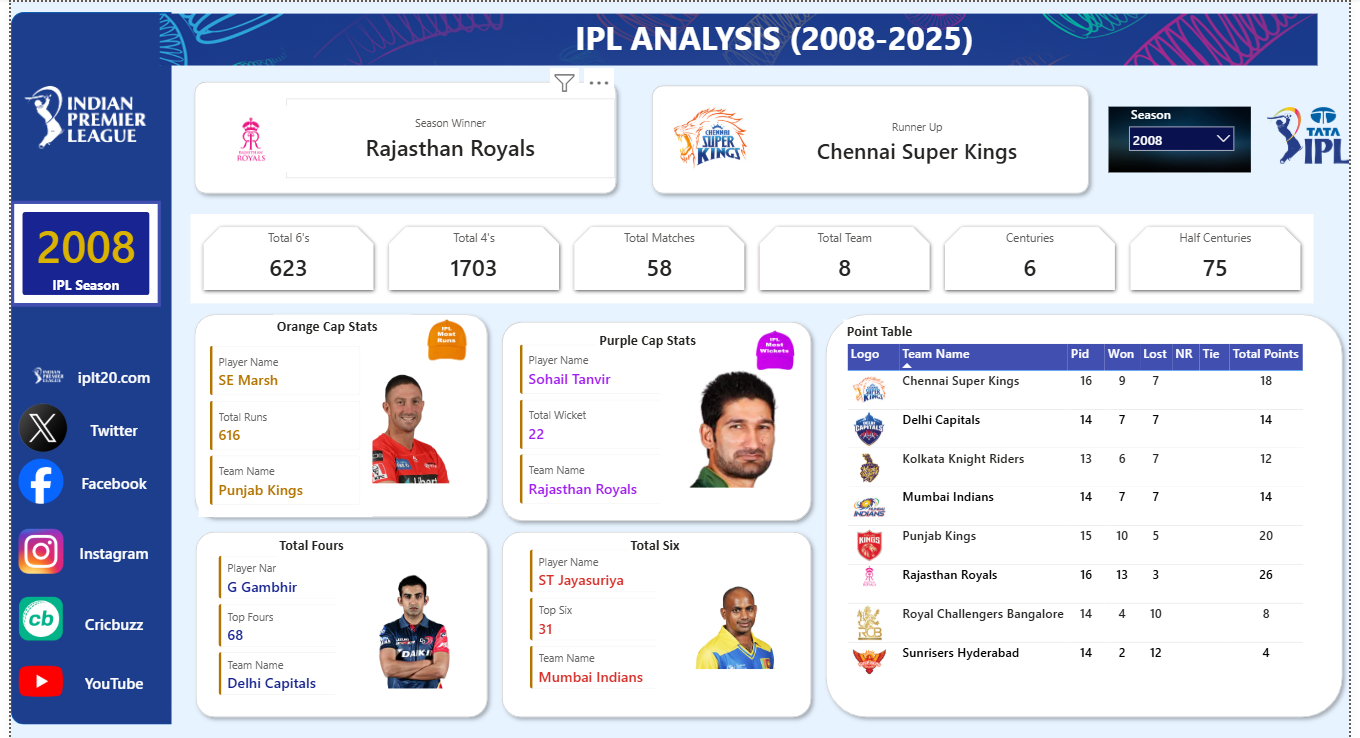

What the dashboard file says about the page in this screenshot:
{"tool":"powerbi","page":{"name":"Page 1","canvas":[2000,1100],"ordinal":0},"visuals":[{"type":"shape","box":[0,15,240.2,1065],"z":0},{"type":"image","box":[221.4,15,1730,82],"z":1000},{"type":"image","box":[1640.3,114,213,183.1],"z":2000},{"type":"shape","box":[1206.9,455.8,794,624],"z":3000},{"type":"shape","box":[723,780.9,483.9,298.9],"z":4000},{"type":"shape","box":[265.3,780.9,457.7,298.9],"z":5000},{"type":"shape","box":[263.4,108.4,652,188.7],"z":6000},{"type":"cardVisual","fields":{"Data":["ipl_matches_data.Season Winner"]},"box":[411,143.9,491.3,119.6],"z":7000},{"type":"shape","box":[263.4,455.8,459.6,325.1],"z":8000},{"type":"cardVisual","fields":{"Data":["ipl_matches_data.Orange Cap Image"]},"box":[480.1,513.8,218.6,242.9],"z":9000},{"type":"cardVisual","fields":{"Data":["ipl_matches_data.Orange Cap Holder","ipl_matches_data.Orange Cap Runs","ipl_matches_data.Orange Cap Holder Team Name"]},"box":[280.2,496.9,259.7,272.8],"z":10000},{"type":"cardVisual","fields":{"Data":["ipl_matches_data.Total 6's","ipl_matches_data.Total 4's","ipl_matches_data.Total Matches","ipl_matches_data.Total Team","ipl_matches_data.Centuries","ipl_matches_data.Half Centuries"]},"box":[263.4,312,1688.9,143.9],"z":11000},{"type":"shape","box":[947.2,114,674.4,183.1],"z":12000},{"type":"cardVisual","fields":{"Data":["ipl_matches_data.Season Winner logo"]},"box":[293.3,155.1,132.6,99],"z":13000},{"type":"textbox","box":[769.2,15,743,82.6],"z":14000},{"type":"slicer","fields":{"Values":["ipl_matches_data.season"]},"box":[1660.8,149.5,177.5,110.2],"z":15000},{"type":"cardVisual","fields":{"Data":["ipl_matches_data.Runner Up"]},"box":[1141.5,162.5,420.3,100.9],"z":16000},{"type":"cardVisual","fields":{"Data":["ipl_matches_data.Runner Up logo"]},"box":[990.2,136.4,192.4,134.5],"z":17000},{"type":"textbox","box":[392.3,467.1,205.5,43],"z":18000},{"type":"image","box":[605.3,472.7,93.4,65.4],"z":19000},{"type":"shape","box":[723,467.1,483.9,319.5],"z":20000},{"type":"cardVisual","fields":{"Data":["ipl_matches_data.PurpleCapHolder","ipl_matches_data.PurpleCapWicketCount","ipl_matches_data.PurpleCapWicketTeam"]},"box":[743.6,495.1,259.7,272.8],"z":21000},{"type":"cardVisual","fields":{"Data":["ipl_matches_data.PurpleCapHolderImage"]},"box":[965.9,513.8,227.9,246.6],"z":22000},{"type":"textbox","box":[874.3,487.6,186.8,44.8],"z":23000},{"type":"image","box":[1094.8,489.5,95.3,63.5],"z":24000},{"type":"cardVisual","fields":{"Data":["ipl_matches_data.Top Four Player Name","ipl_matches_data.Top Fours Count","ipl_matches_data.Top Four Player Team Name"]},"box":[293.3,810.8,231.7,242.9],"z":25000},{"type":"textbox","box":[396.1,794,168.1,59.8],"z":26000},{"type":"cardVisual","fields":{"Data":["ipl_matches_data.Top Four Player Image"]},"box":[480.1,816.4,229.8,239.1],"z":27000},{"type":"cardVisual","fields":{"Data":["ipl_matches_data.Top Six Player Name","ipl_matches_data.Top Six Count","ipl_matches_data.Top Six Player Team Name"]},"box":[758.5,801.5,231.7,242.9],"z":28000},{"type":"cardVisual","fields":{"Data":["ipl_matches_data.Top Four Player Image"]},"box":[958.4,808.9,229.8,246.6],"z":29000},{"type":"textbox","box":[921,794,127,46.7],"z":30000},{"type":"tableEx","fields":{"Values":["teams_data.image_url","teams_data.team_name","ipl_matches_data.Matches Played","ipl_matches_data.Matches Won","ipl_matches_data.Matches Lost","ipl_matches_data.No Result Matches","ipl_matches_data.Tie Played","ipl_matches_data.Total Points"]},"box":[1244.2,506.3,708.1,538],"z":31000},{"type":"textbox","box":[1244.2,474.5,186.8,35.5],"z":32000},{"type":"image","box":[0,97.1,222.3,156.9],"z":33000},{"type":"cardVisual","fields":{"Data":["ipl_matches_data.IPL Season"]},"box":[0,297,224.2,158.8],"z":34000},{"type":"actionButton","box":[84.1,539.9,140.1,39.2],"z":35000},{"type":"image","box":[26.2,539.9,57.9,39.2],"z":36000},{"type":"actionButton","box":[84.1,618.4,140.1,39.2],"z":37000},{"type":"actionButton","box":[84.1,698.7,140.1,39.2],"z":38000},{"type":"image","box":[11.2,596,72.9,80.3],"z":39000},{"type":"image","box":[11.2,676.3,67.3,80.3],"z":40000},{"type":"image","box":[11.2,780.9,67.3,80.3],"z":41000},{"type":"actionButton","box":[84.1,795.9,140.1,54.2],"z":42000},{"type":"image","box":[11.2,881.8,67.3,80.3],"z":43000},{"type":"image","box":[11.2,975.2,67.3,80.3],"z":44000},{"type":"actionButton","box":[84.1,902.3,140.1,54.2],"z":45000},{"type":"actionButton","box":[84.1,990.2,140.1,54.2],"z":46000},{"type":"image","box":[1877.6,100.9,123.3,196.2],"z":47000}]}

Visuals, with their boxes in screenshot pixels (x1, y1, x2, y2), scaled from the page's 2000x1100 canvas onto the 1360x738 screenshot:
shape: 0/10/163/725
image: 151/10/1327/65
image: 1115/76/1260/199
shape: 821/306/1359/724
shape: 492/524/821/724
shape: 180/524/492/724
shape: 179/73/622/199
cardVisual - ipl_matches_data.Season Winner: 279/97/614/177
shape: 179/306/492/524
cardVisual - ipl_matches_data.Orange Cap Image: 326/345/475/508
cardVisual - ipl_matches_data.Orange Cap Holder x ipl_matches_data.Orange Cap Runs: 191/333/367/516
cardVisual - ipl_matches_data.Total 6's x ipl_matches_data.Total 4's: 179/209/1328/306
shape: 644/76/1103/199
cardVisual - ipl_matches_data.Season Winner logo: 199/104/290/170
textbox: 523/10/1028/65
slicer - ipl_matches_data.season: 1129/100/1250/174
cardVisual - ipl_matches_data.Runner Up: 776/109/1062/177
cardVisual - ipl_matches_data.Runner Up logo: 673/92/804/182
textbox: 267/313/407/342
image: 412/317/475/361
shape: 492/313/821/528
cardVisual - ipl_matches_data.PurpleCapHolder x ipl_matches_data.PurpleCapWicketCount: 506/332/682/515
cardVisual - ipl_matches_data.PurpleCapHolderImage: 657/345/812/510
textbox: 595/327/722/357
image: 744/328/809/371
cardVisual - ipl_matches_data.Top Four Player Name x ipl_matches_data.Top Fours Count: 199/544/357/707
textbox: 269/533/384/573
cardVisual - ipl_matches_data.Top Four Player Image: 326/548/483/708
cardVisual - ipl_matches_data.Top Six Player Name x ipl_matches_data.Top Six Count: 516/538/673/701
cardVisual - ipl_matches_data.Top Four Player Image: 652/543/808/708
textbox: 626/533/713/564
tableEx - teams_data.image_url x teams_data.team_name: 846/340/1328/701
textbox: 846/318/973/342
image: 0/65/151/170
cardVisual - ipl_matches_data.IPL Season: 0/199/152/306
actionButton: 57/362/152/389
image: 18/362/57/389
actionButton: 57/415/152/441
actionButton: 57/469/152/495
image: 8/400/57/454
image: 8/454/53/508
image: 8/524/53/578
actionButton: 57/534/152/570
image: 8/592/53/645
image: 8/654/53/708
actionButton: 57/605/152/642
actionButton: 57/664/152/701
image: 1277/68/1359/199
